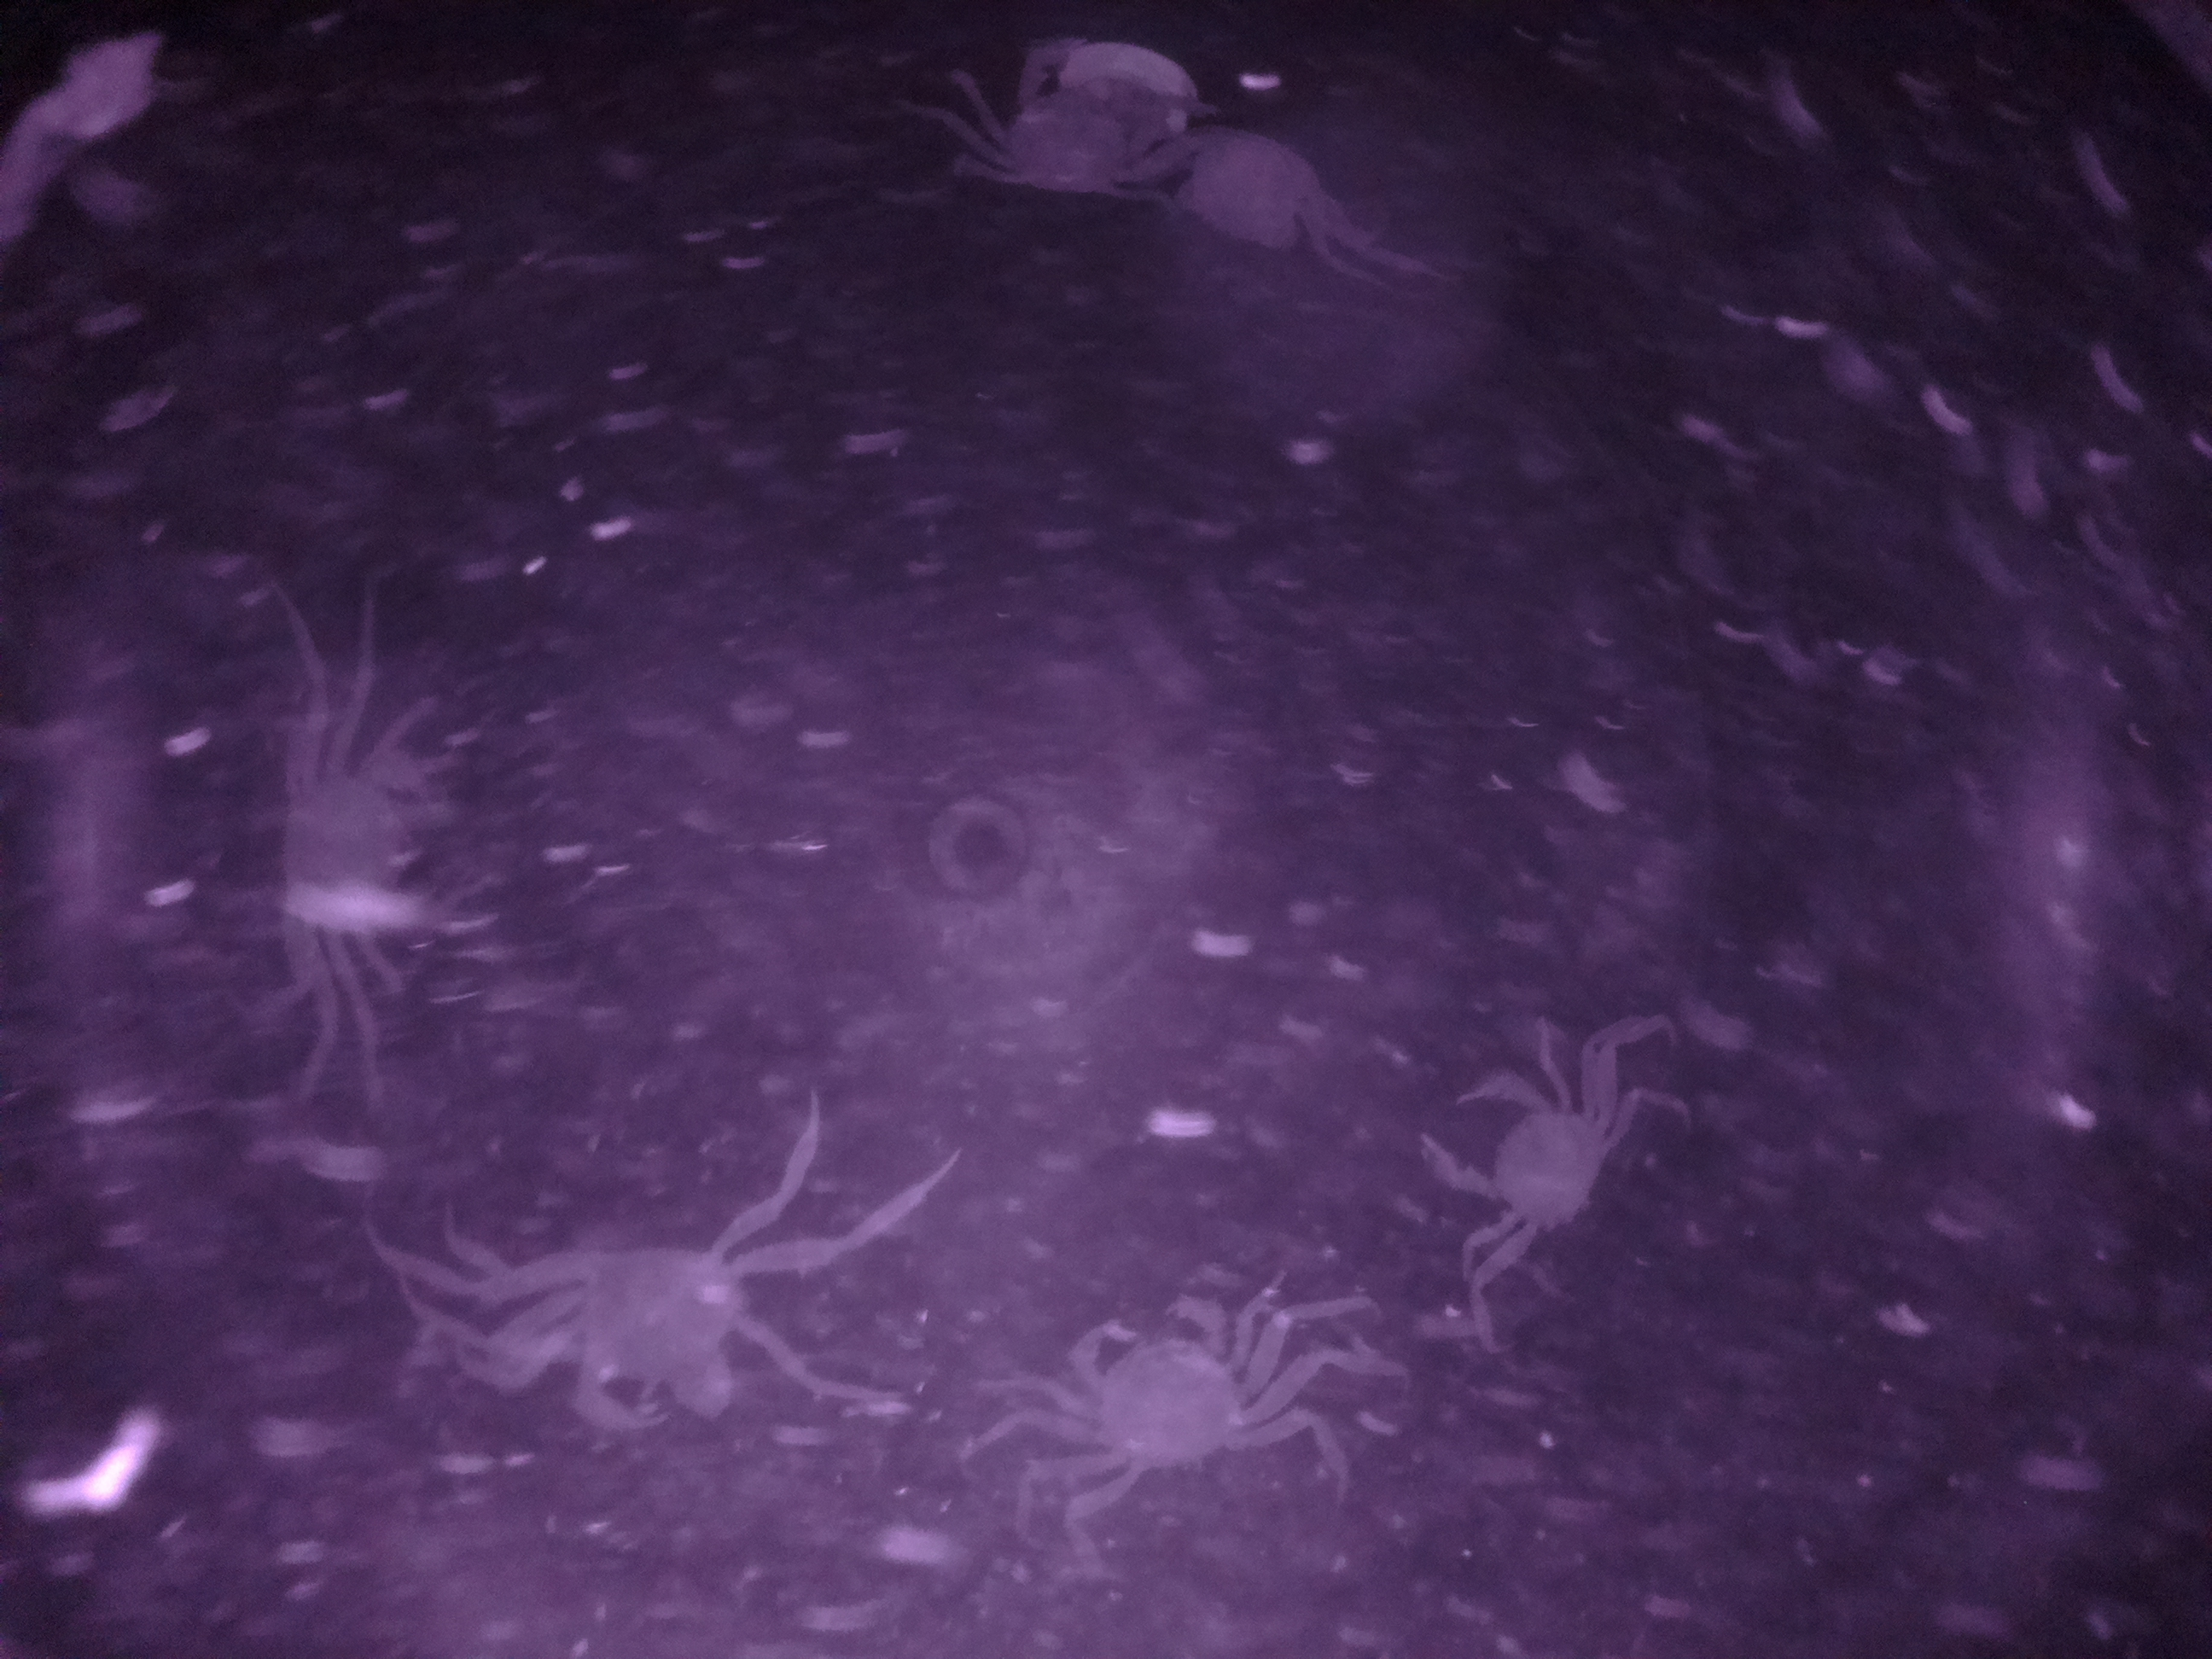Crab: (496, 1208, 796, 1443), (1008, 1281, 1306, 1500), (1383, 1054, 1642, 1263)
